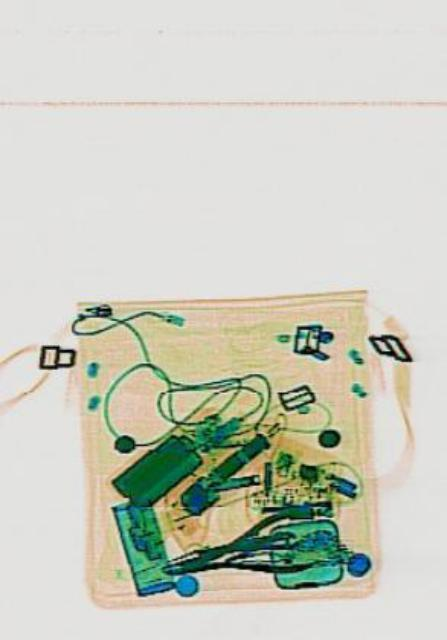Pliers: (153, 497, 320, 603)
